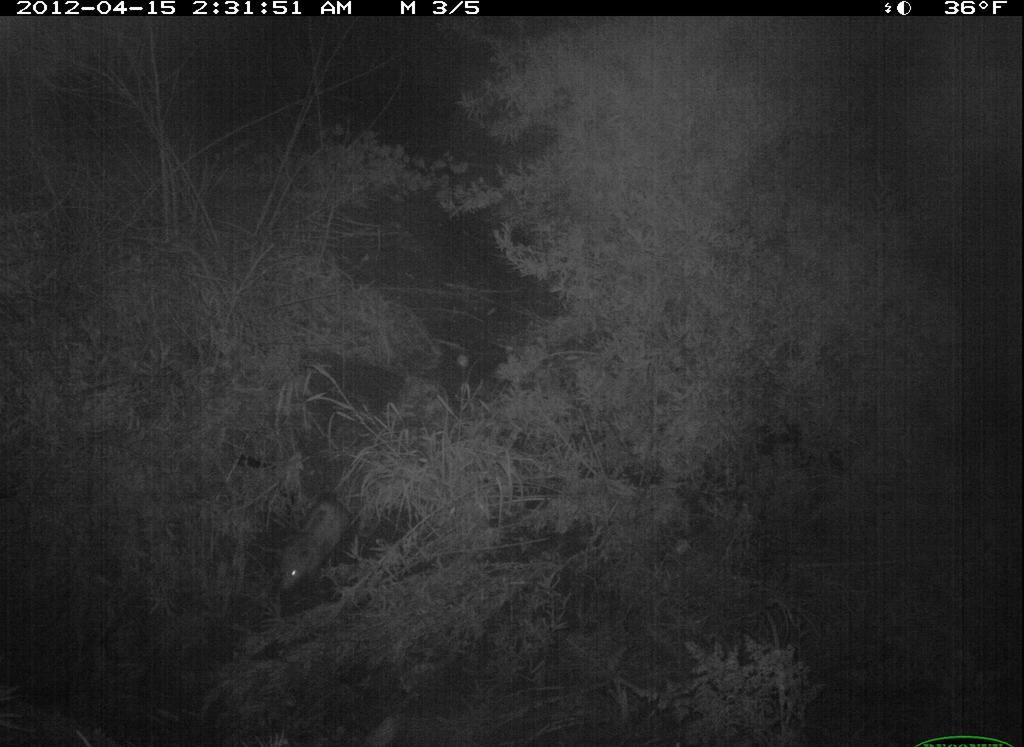opossum: (273, 482, 372, 593)
